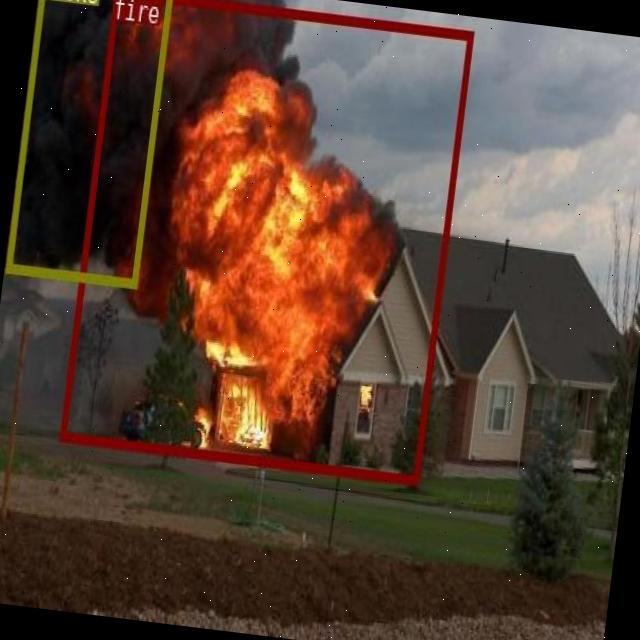fire: (57, 0, 472, 483)
smoke: (4, 0, 172, 286)
